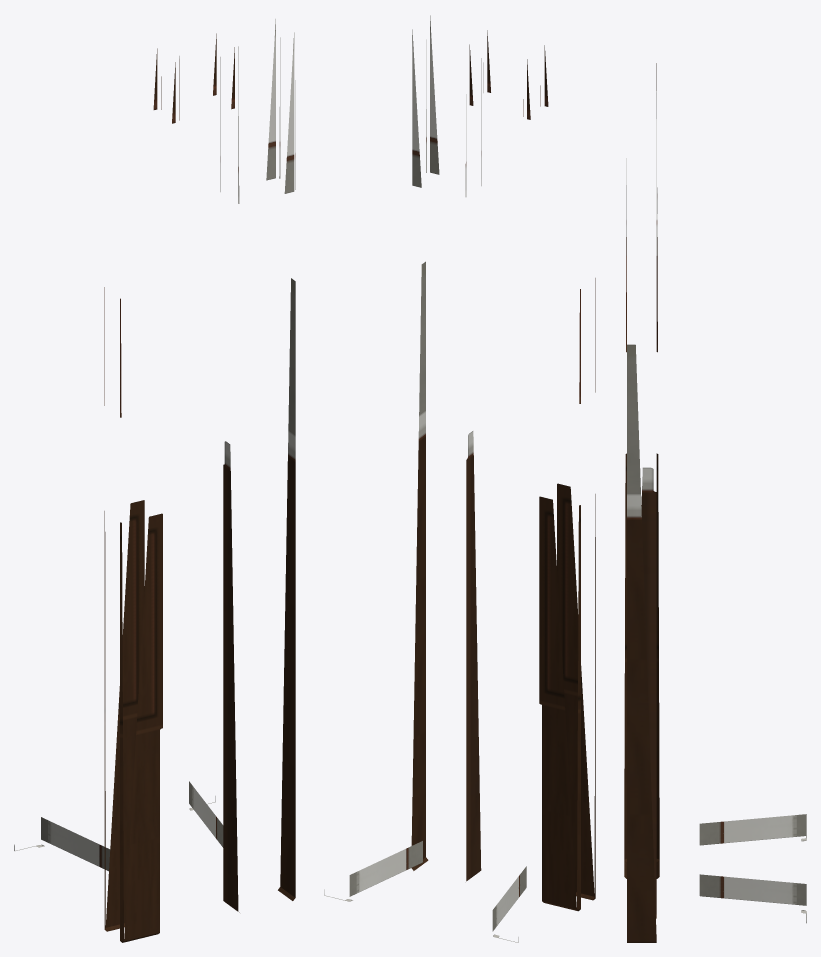
3 renders of one model, left to right at view 1: azimuth 30°, elevation 25°; view 2: azimuth 150°, elevation 25°; view 3: azimuth 270°, elevation 25°, orthographic. The views are drawn at different scales.
Size of the model in its own units: 0.4552 by 1.89 by 0.37.
